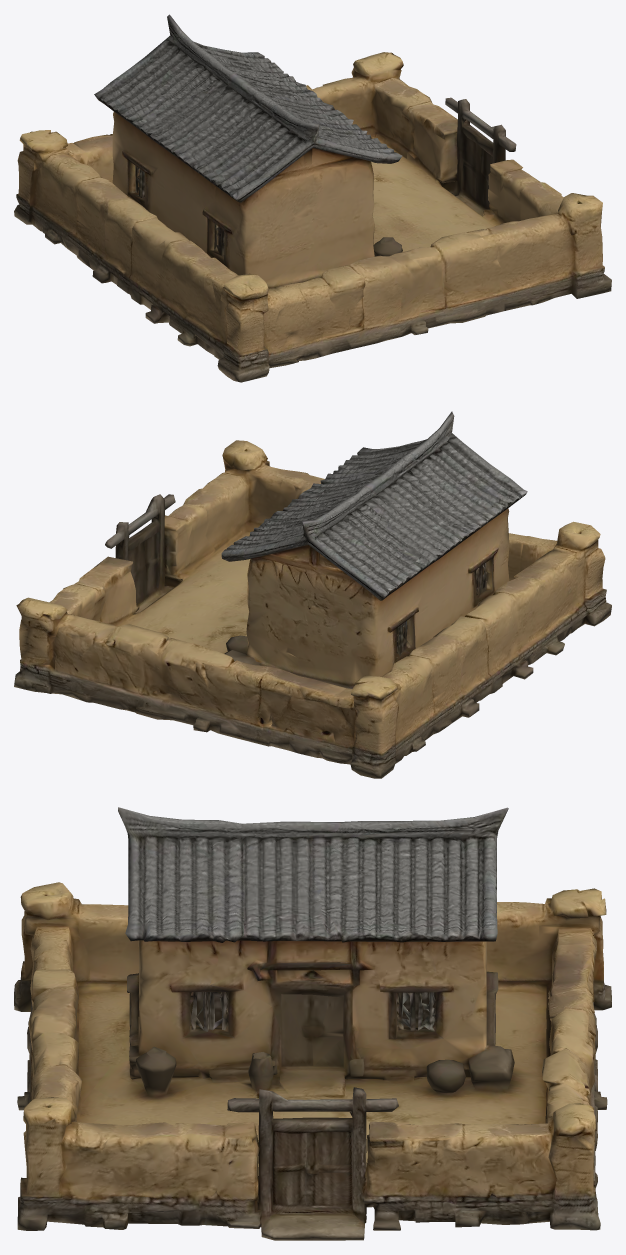
The model's file is v-house3.glb.
3 renders of one model, top to bottom at view 1: azimuth 30°, elevation 25°; view 2: azimuth 150°, elevation 25°; view 3: azimuth 270°, elevation 25°, orthographic. The views are drawn at different scales.
Parts seen in each view (by area): view 1: tripo_node_16feaae8-2205-4f6e-a152-6550409d446b; view 2: tripo_node_16feaae8-2205-4f6e-a152-6550409d446b; view 3: tripo_node_16feaae8-2205-4f6e-a152-6550409d446b.
Boxes of the visible parts, x1,y1,x2,y2 form: tripo_node_16feaae8-2205-4f6e-a152-6550409d446b: (14, 14, 611, 382); tripo_node_16feaae8-2205-4f6e-a152-6550409d446b: (14, 411, 611, 778); tripo_node_16feaae8-2205-4f6e-a152-6550409d446b: (14, 807, 611, 1240).
Size of the model in its own units: 0.9777 by 0.4906 by 1.
1 material, 1 textured.
